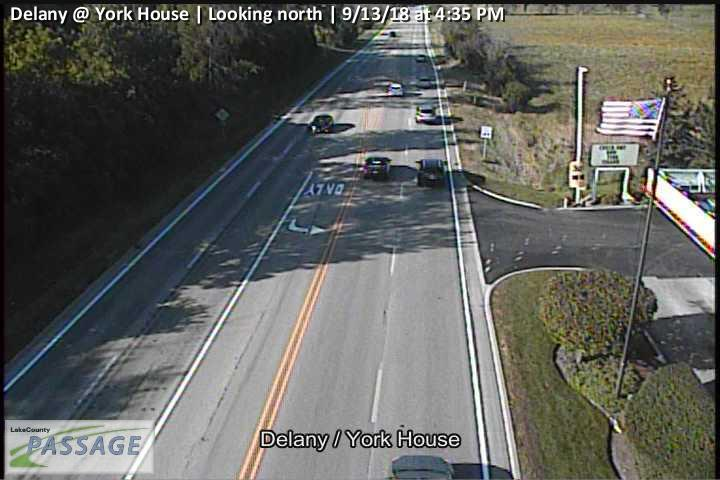SUV: (414, 158, 447, 187), (415, 102, 436, 123), (385, 81, 403, 96)
Sedan: (361, 156, 391, 177), (310, 113, 334, 134)
